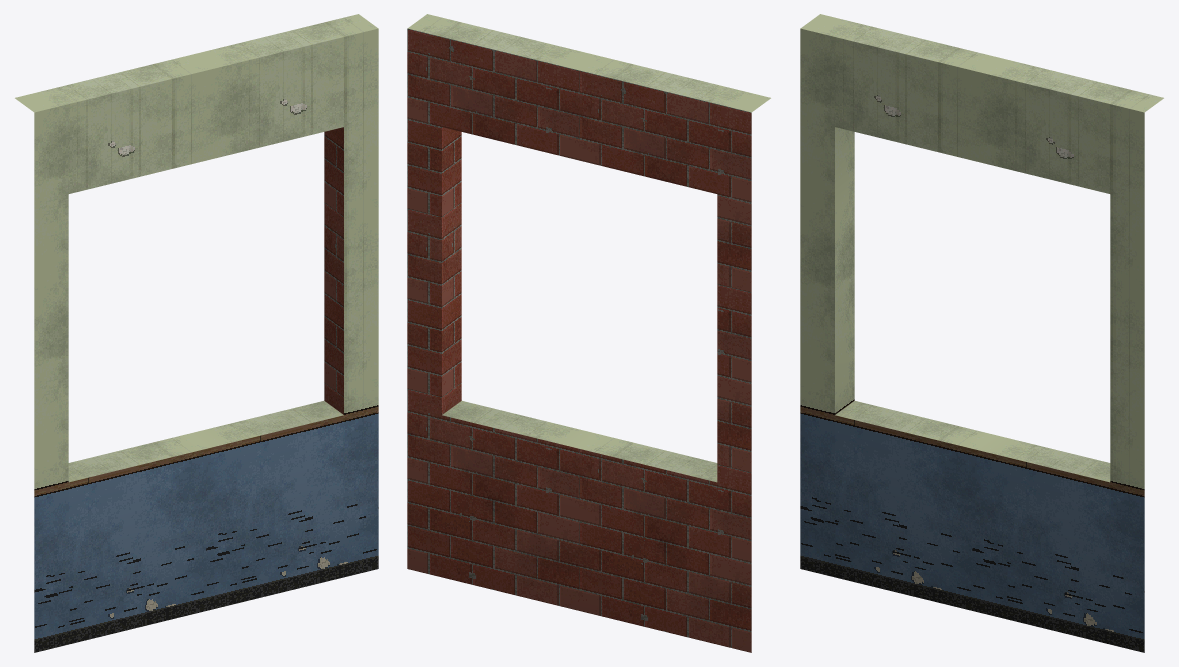
File: wall_window_class.glb
3 views of the same model, side by side, from view 1: azimuth 30°, elevation 25°; view 2: azimuth 150°, elevation 25°; view 3: azimuth 330°, elevation 25° (orthographic).
Visible parts, largest first — view 1: wall_window_class; view 2: wall_window_class; view 3: wall_window_class.
Part boxes in pixels (x1=…): wall_window_class: x1=15, y1=14, x2=378, y2=652; wall_window_class: x1=407, y1=14, x2=770, y2=652; wall_window_class: x1=800, y1=14, x2=1163, y2=652.
Bounding box in the file's own units: 2 × 3 × 0.2.
